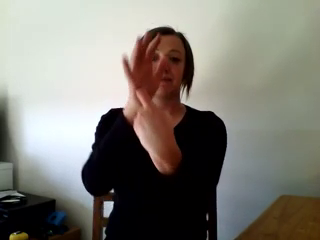R: (117, 26, 188, 170)
